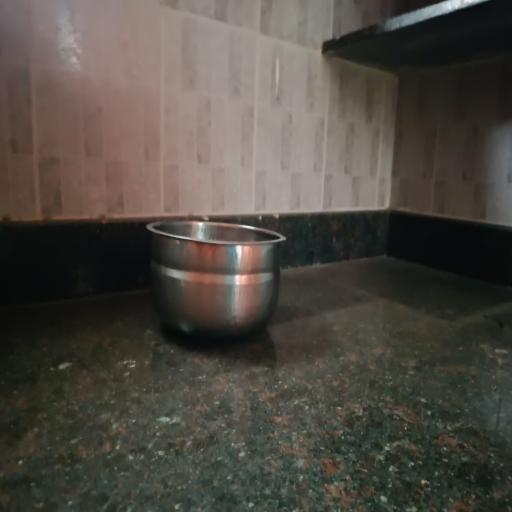vessel: (147, 220, 286, 336)
